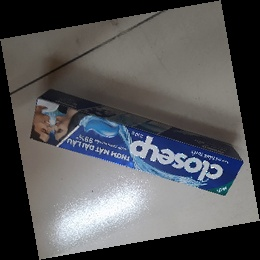CloseUp Tuyet: (29, 87, 244, 198)
